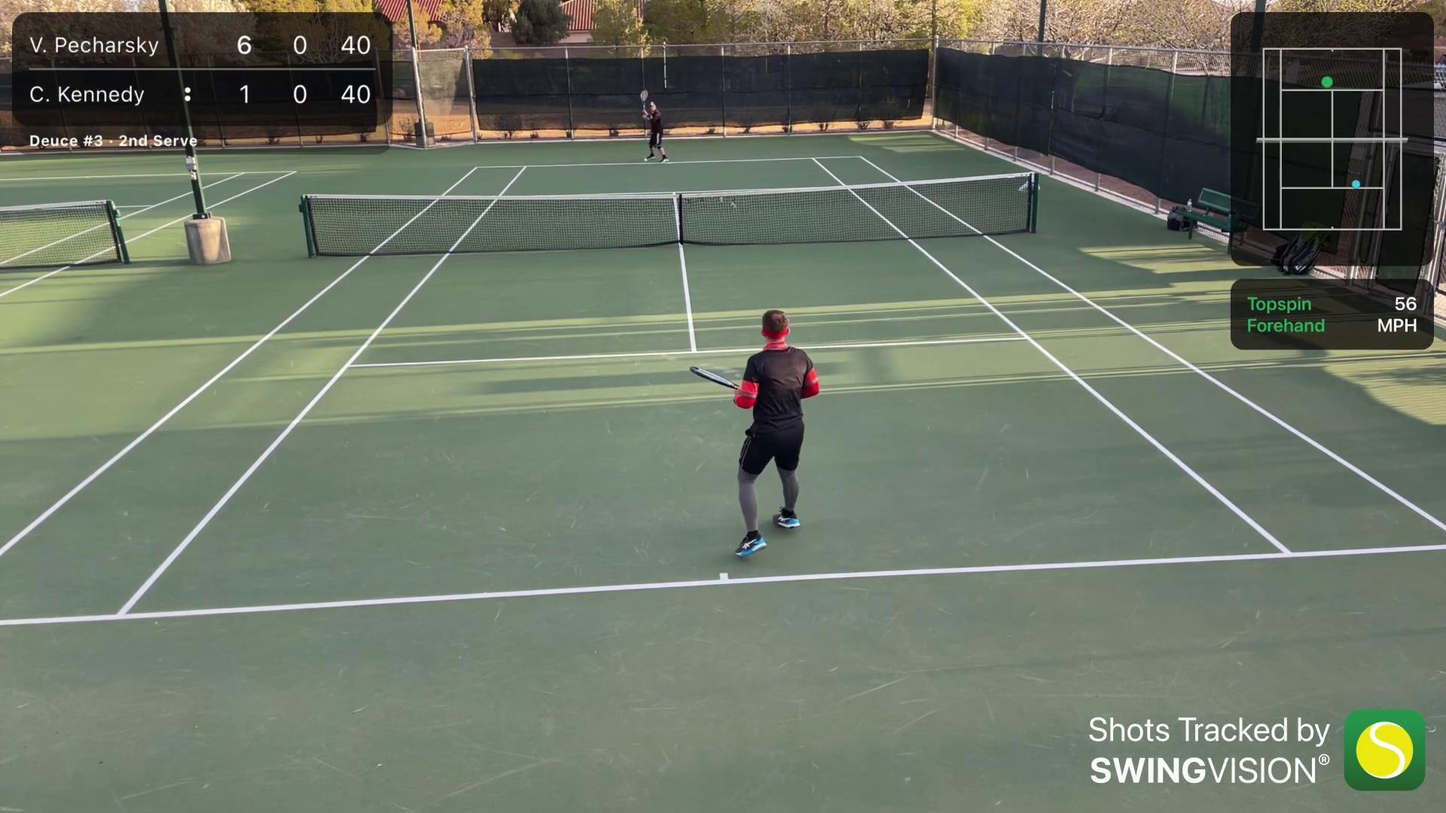ball: (643, 157, 648, 162)
